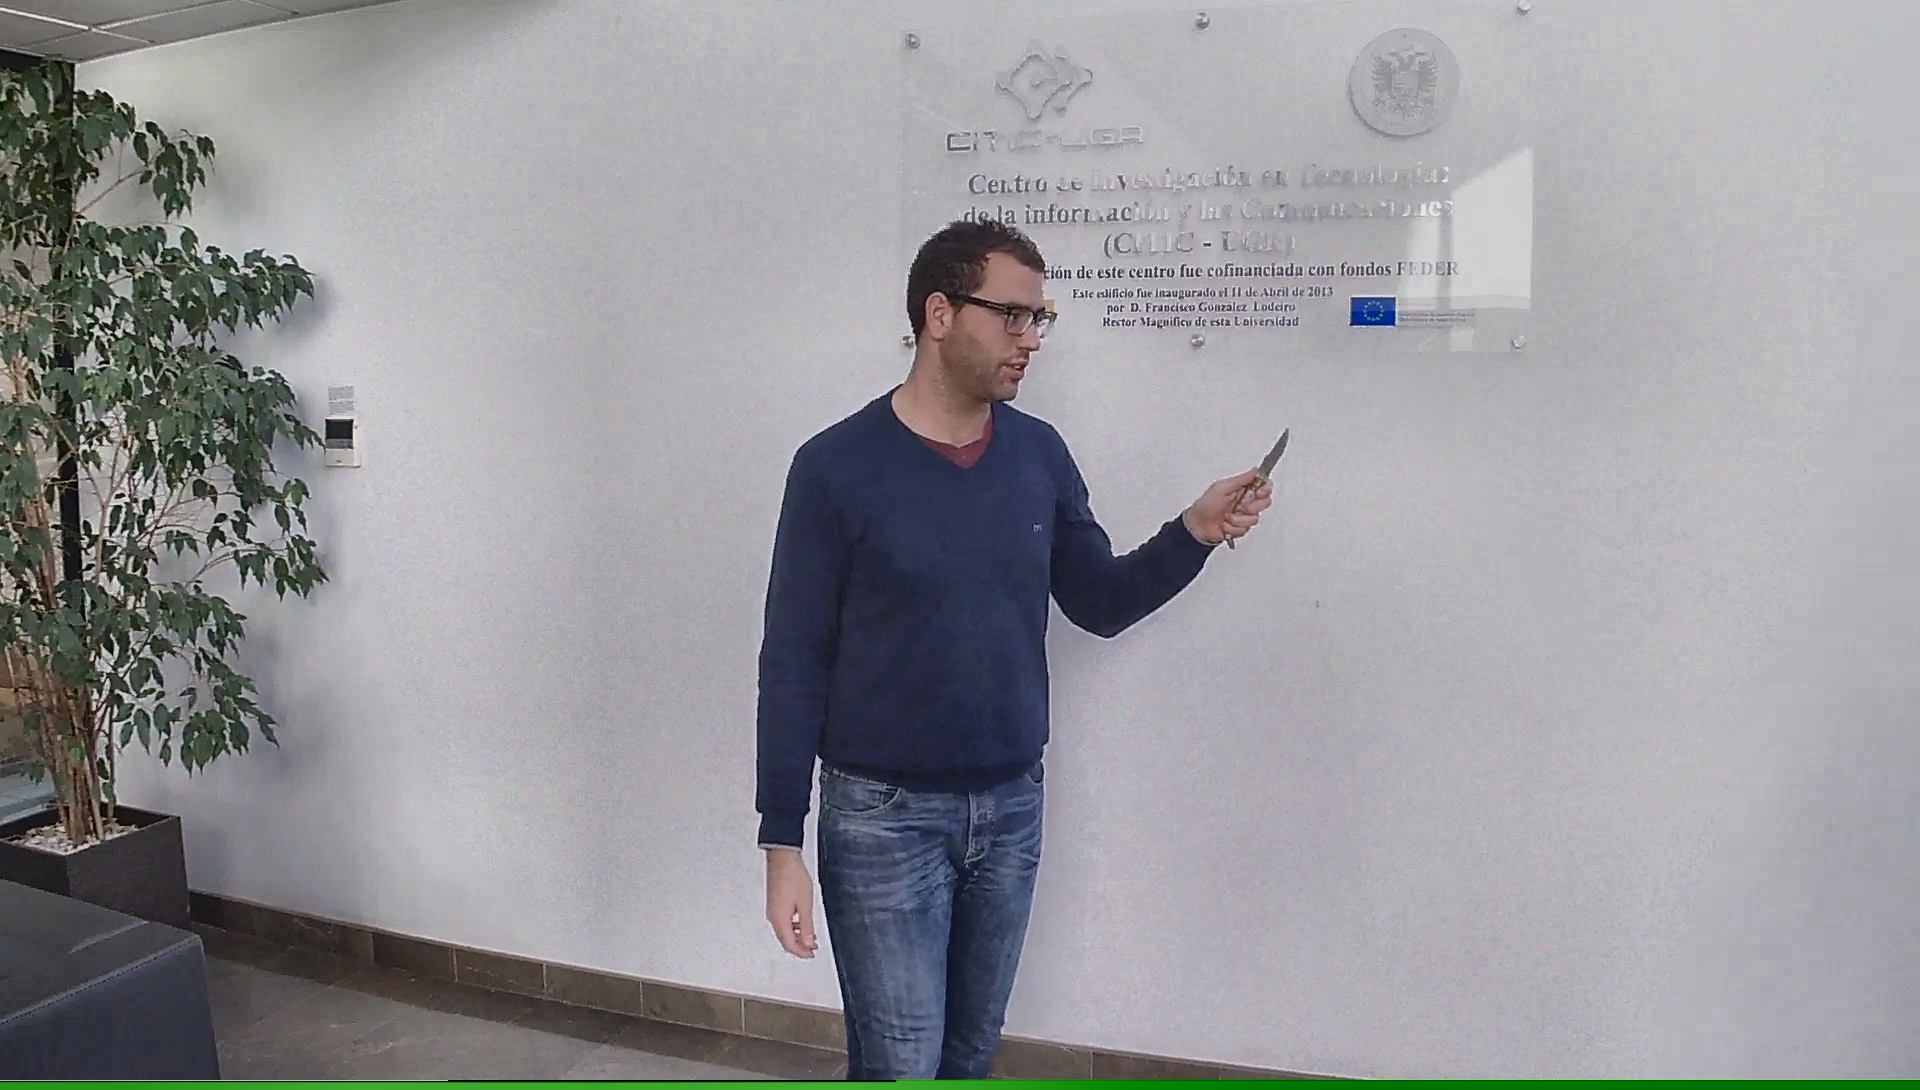knife: (1213, 415, 1298, 559)
